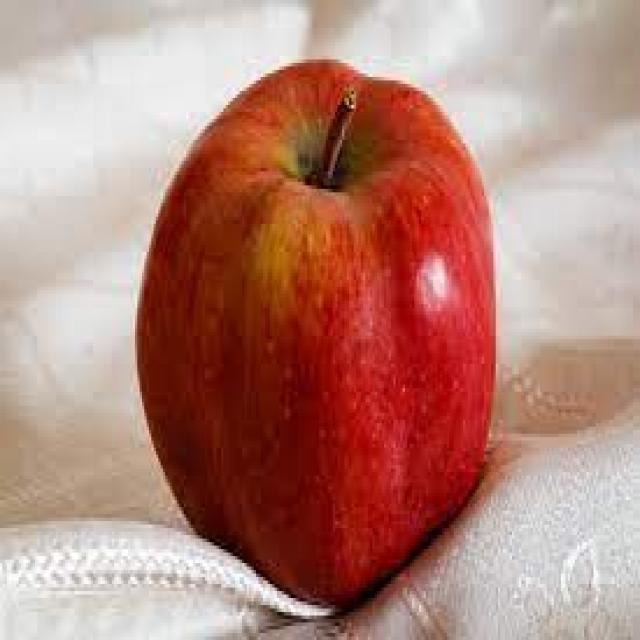Fresh Apple: (142, 70, 486, 605)
